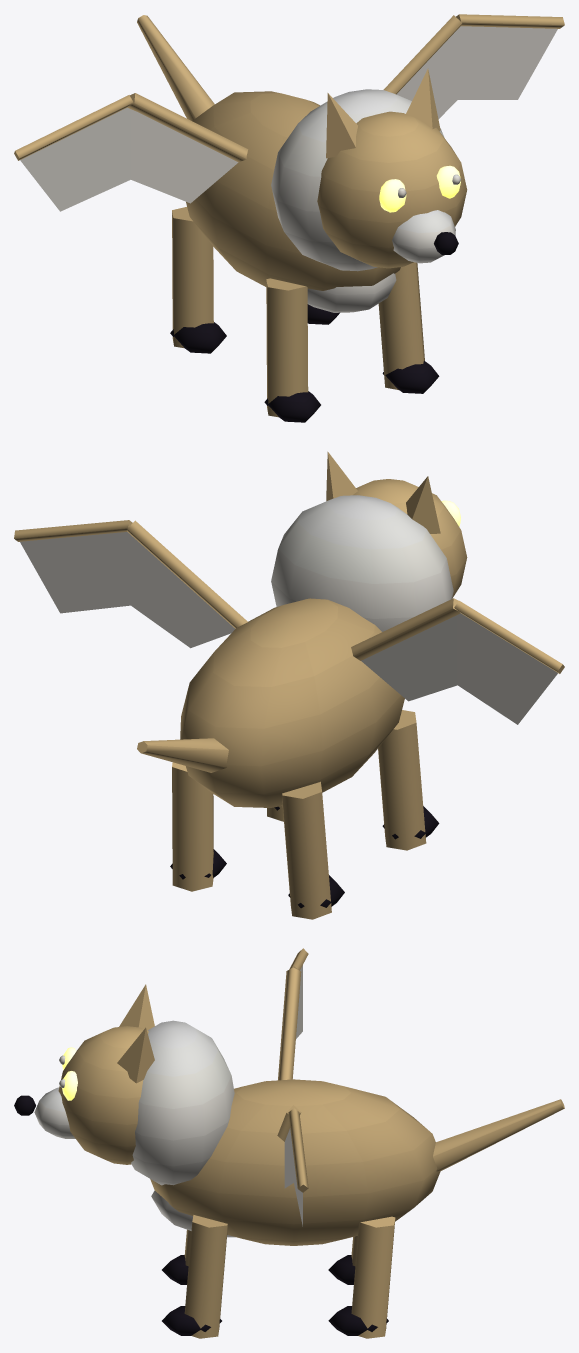
Rendered from monster_griffin.glb.
3 renders of one model, top to bottom at view 1: azimuth 30°, elevation 25°; view 2: azimuth 150°, elevation 25°; view 3: azimuth 270°, elevation 25°, orthographic. The views are drawn at different scales.
Visible parts, largest first — view 1: body_t0_palette, wingl_t0_palette, legl_t0_palette, wingr_t0_palette, legr_t0_palette, tail_t0_palette, body_t0_glow_gold; view 2: body_t0_palette, wingr_t0_palette, wingl_t0_palette, legl_t0_palette, legr_t0_palette, tail_t0_palette; view 3: body_t0_palette, legr_t0_palette, tail_t0_palette, wingl_t0_palette, wingr_t0_palette, legl_t0_palette, body_t0_glow_gold.
Boxes of the visible parts, left/top/right/bottom form: body_t0_palette: left=186, top=68, right=467, bottom=312; wingl_t0_palette: left=14, top=93, right=248, bottom=211; legl_t0_palette: left=170, top=207, right=320, bottom=422; wingr_t0_palette: left=383, top=14, right=564, bottom=119; legr_t0_palette: left=307, top=262, right=439, bottom=393; tail_t0_palette: left=137, top=15, right=214, bottom=120; body_t0_glow_gold: left=379, top=165, right=460, bottom=212; body_t0_palette: left=180, top=451, right=467, bottom=807; wingr_t0_palette: left=14, top=520, right=247, bottom=648; wingl_t0_palette: left=351, top=598, right=564, bottom=724; legl_t0_palette: left=282, top=710, right=439, bottom=919; legr_t0_palette: left=170, top=762, right=283, bottom=891; tail_t0_palette: left=137, top=738, right=228, bottom=772; body_t0_palette: left=14, top=984, right=440, bottom=1245; legr_t0_palette: left=162, top=1215, right=395, bottom=1338; tail_t0_palette: left=433, top=1099, right=564, bottom=1171; wingl_t0_palette: left=278, top=948, right=308, bottom=1080; wingr_t0_palette: left=277, top=1105, right=308, bottom=1226; legl_t0_palette: left=162, top=1229, right=357, bottom=1284; body_t0_glow_gold: left=62, top=1047, right=77, bottom=1100.
Bounding box in the file's own units: 0.6033 × 0.3603 × 0.5945.
